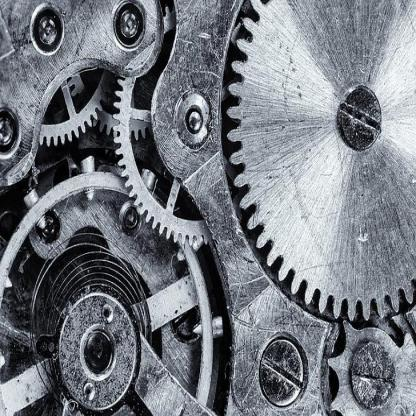FOD: (223, 0, 415, 327), (111, 67, 211, 253)
